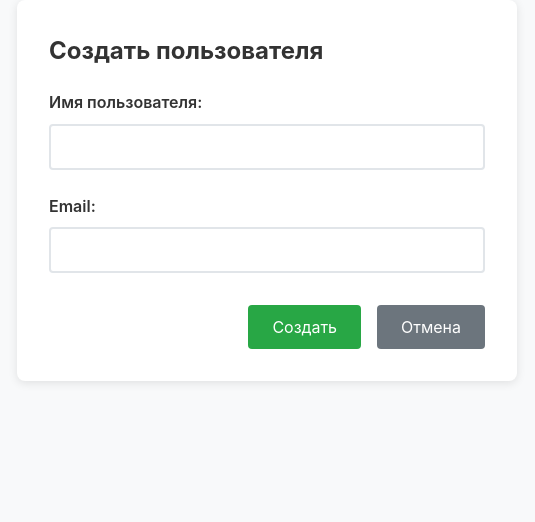
Test: UserForm › clears errors when input changes
This screenshot has width=535, height=522.
Step 1. Click the button with test id "submit-btn" → (305, 328), box [248, 306, 361, 350]
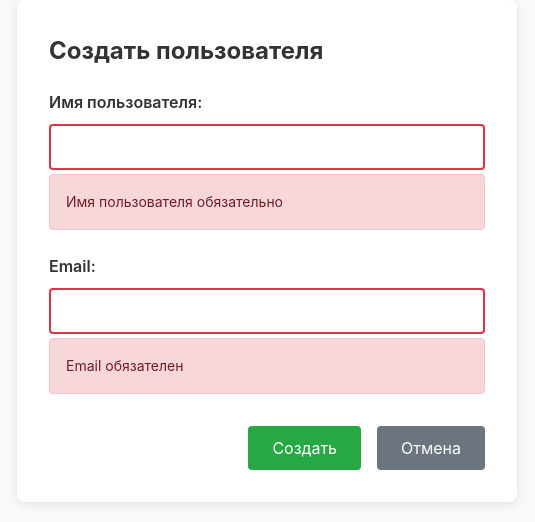
expect the text "Имя пользователя обязательно" is shown: met, box [49, 174, 485, 230]
Step 2. Type "test" into the field with test id "username-input" → (267, 147), box [49, 124, 485, 170]
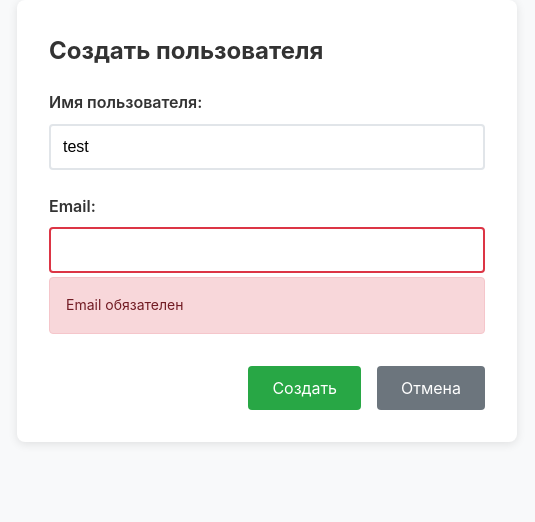
expect the text with test id "username-error" is gone: met
